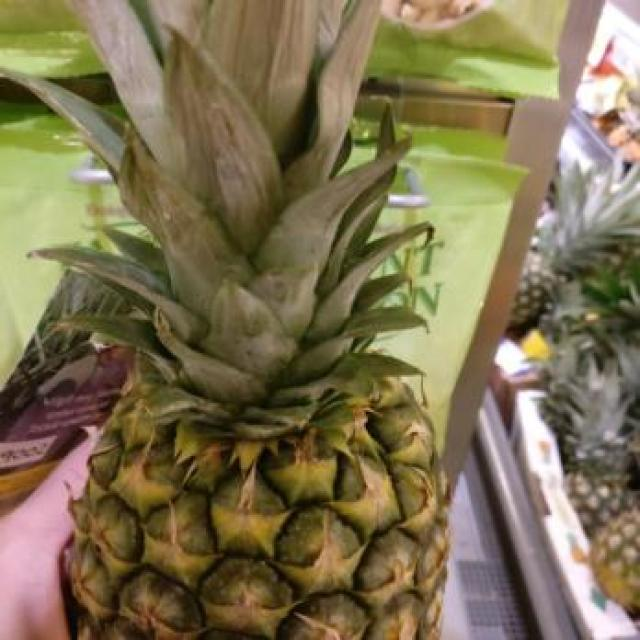pineapple: (2, 0, 445, 640), (506, 168, 640, 339), (544, 360, 638, 538)
